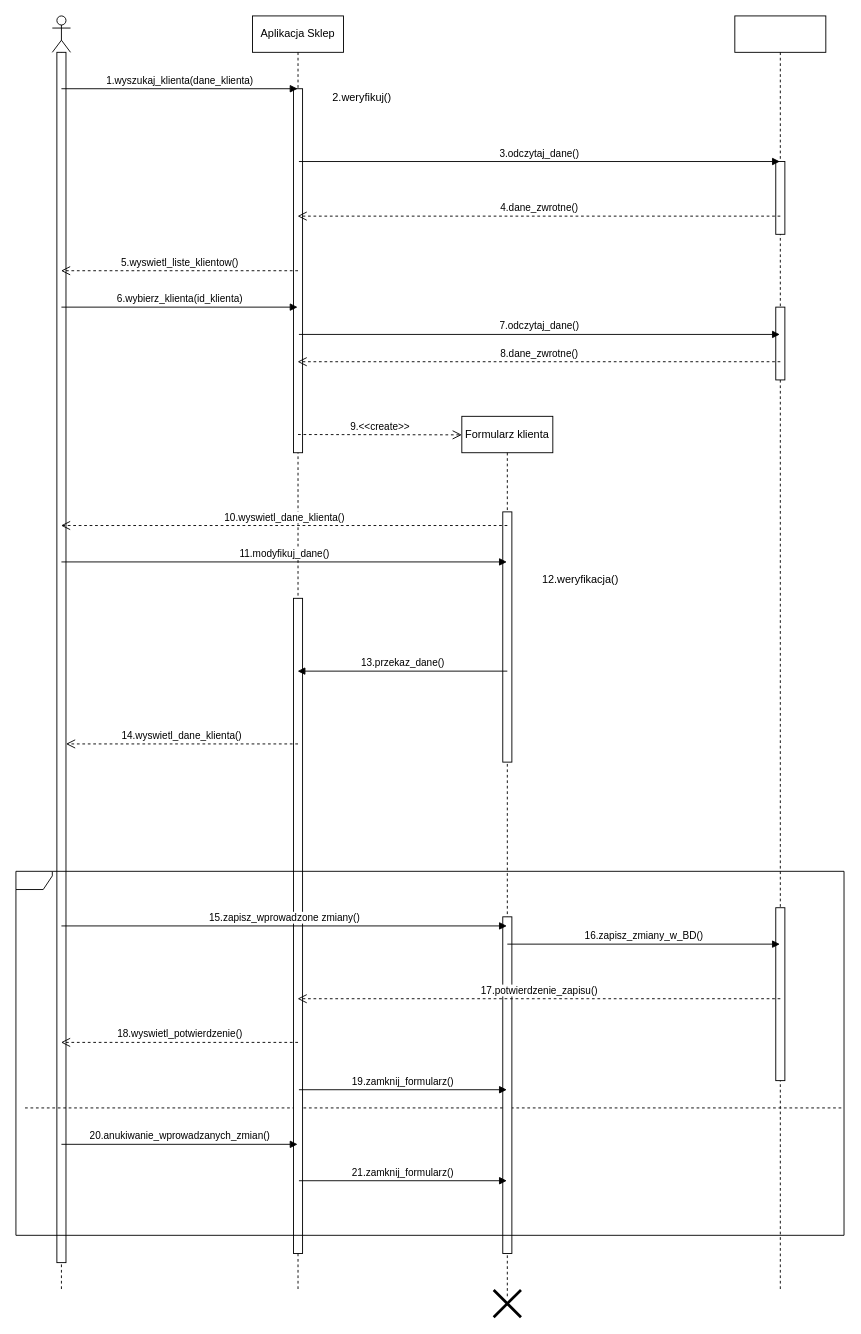
Some shapes in this 861 by 1334 pixel diagram are drawn without their labels. Each missing label, with the box of its shape:
:Object: (734, 15, 826, 1290)
alt: (15, 870, 844, 1235)
